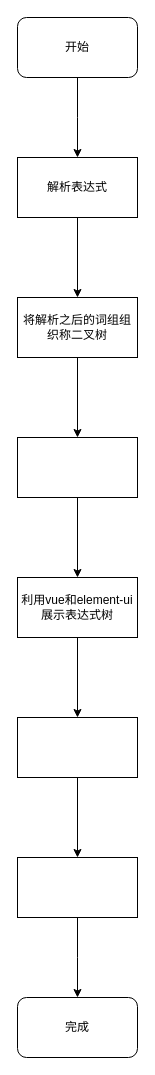
Image size: 155x1075. Some labels were removed from this diagram. The centre of each missing label's shape, as x and y in pixels:
前序遍历二叉树生成可以应用于tree组件的数组: point (77, 467)
生成表达式树: point (77, 887)
编辑表达式: point (77, 747)
